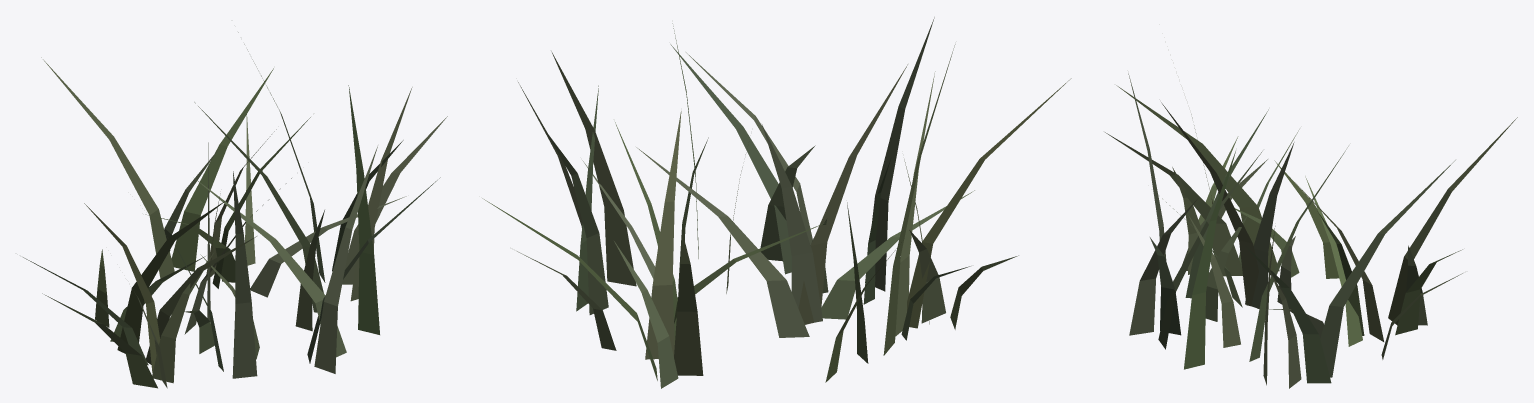
Rendered from Grass1.glb.
3 renders of one model, left to right at view 1: azimuth 30°, elevation 25°; view 2: azimuth 150°, elevation 25°; view 3: azimuth 270°, elevation 25°, orthographic. The views are drawn at different scales.
Size of the model in its own units: 0.6614 by 0.3427 by 0.589.
